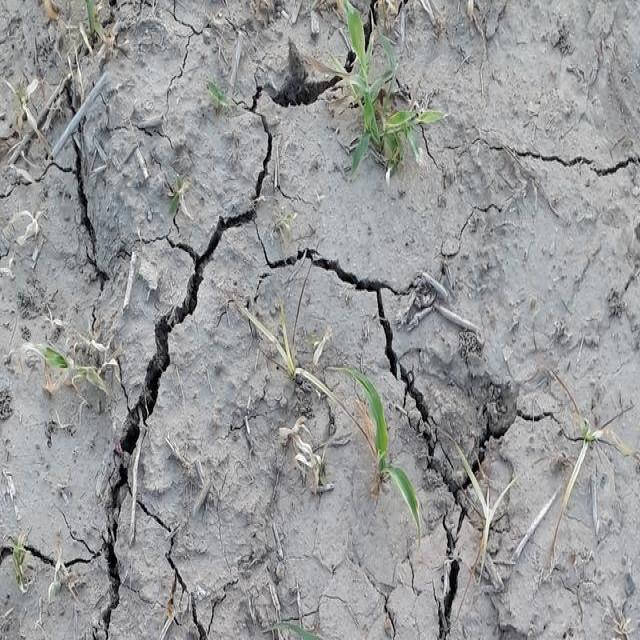weed: (245, 314, 424, 550), (325, 0, 432, 188)
